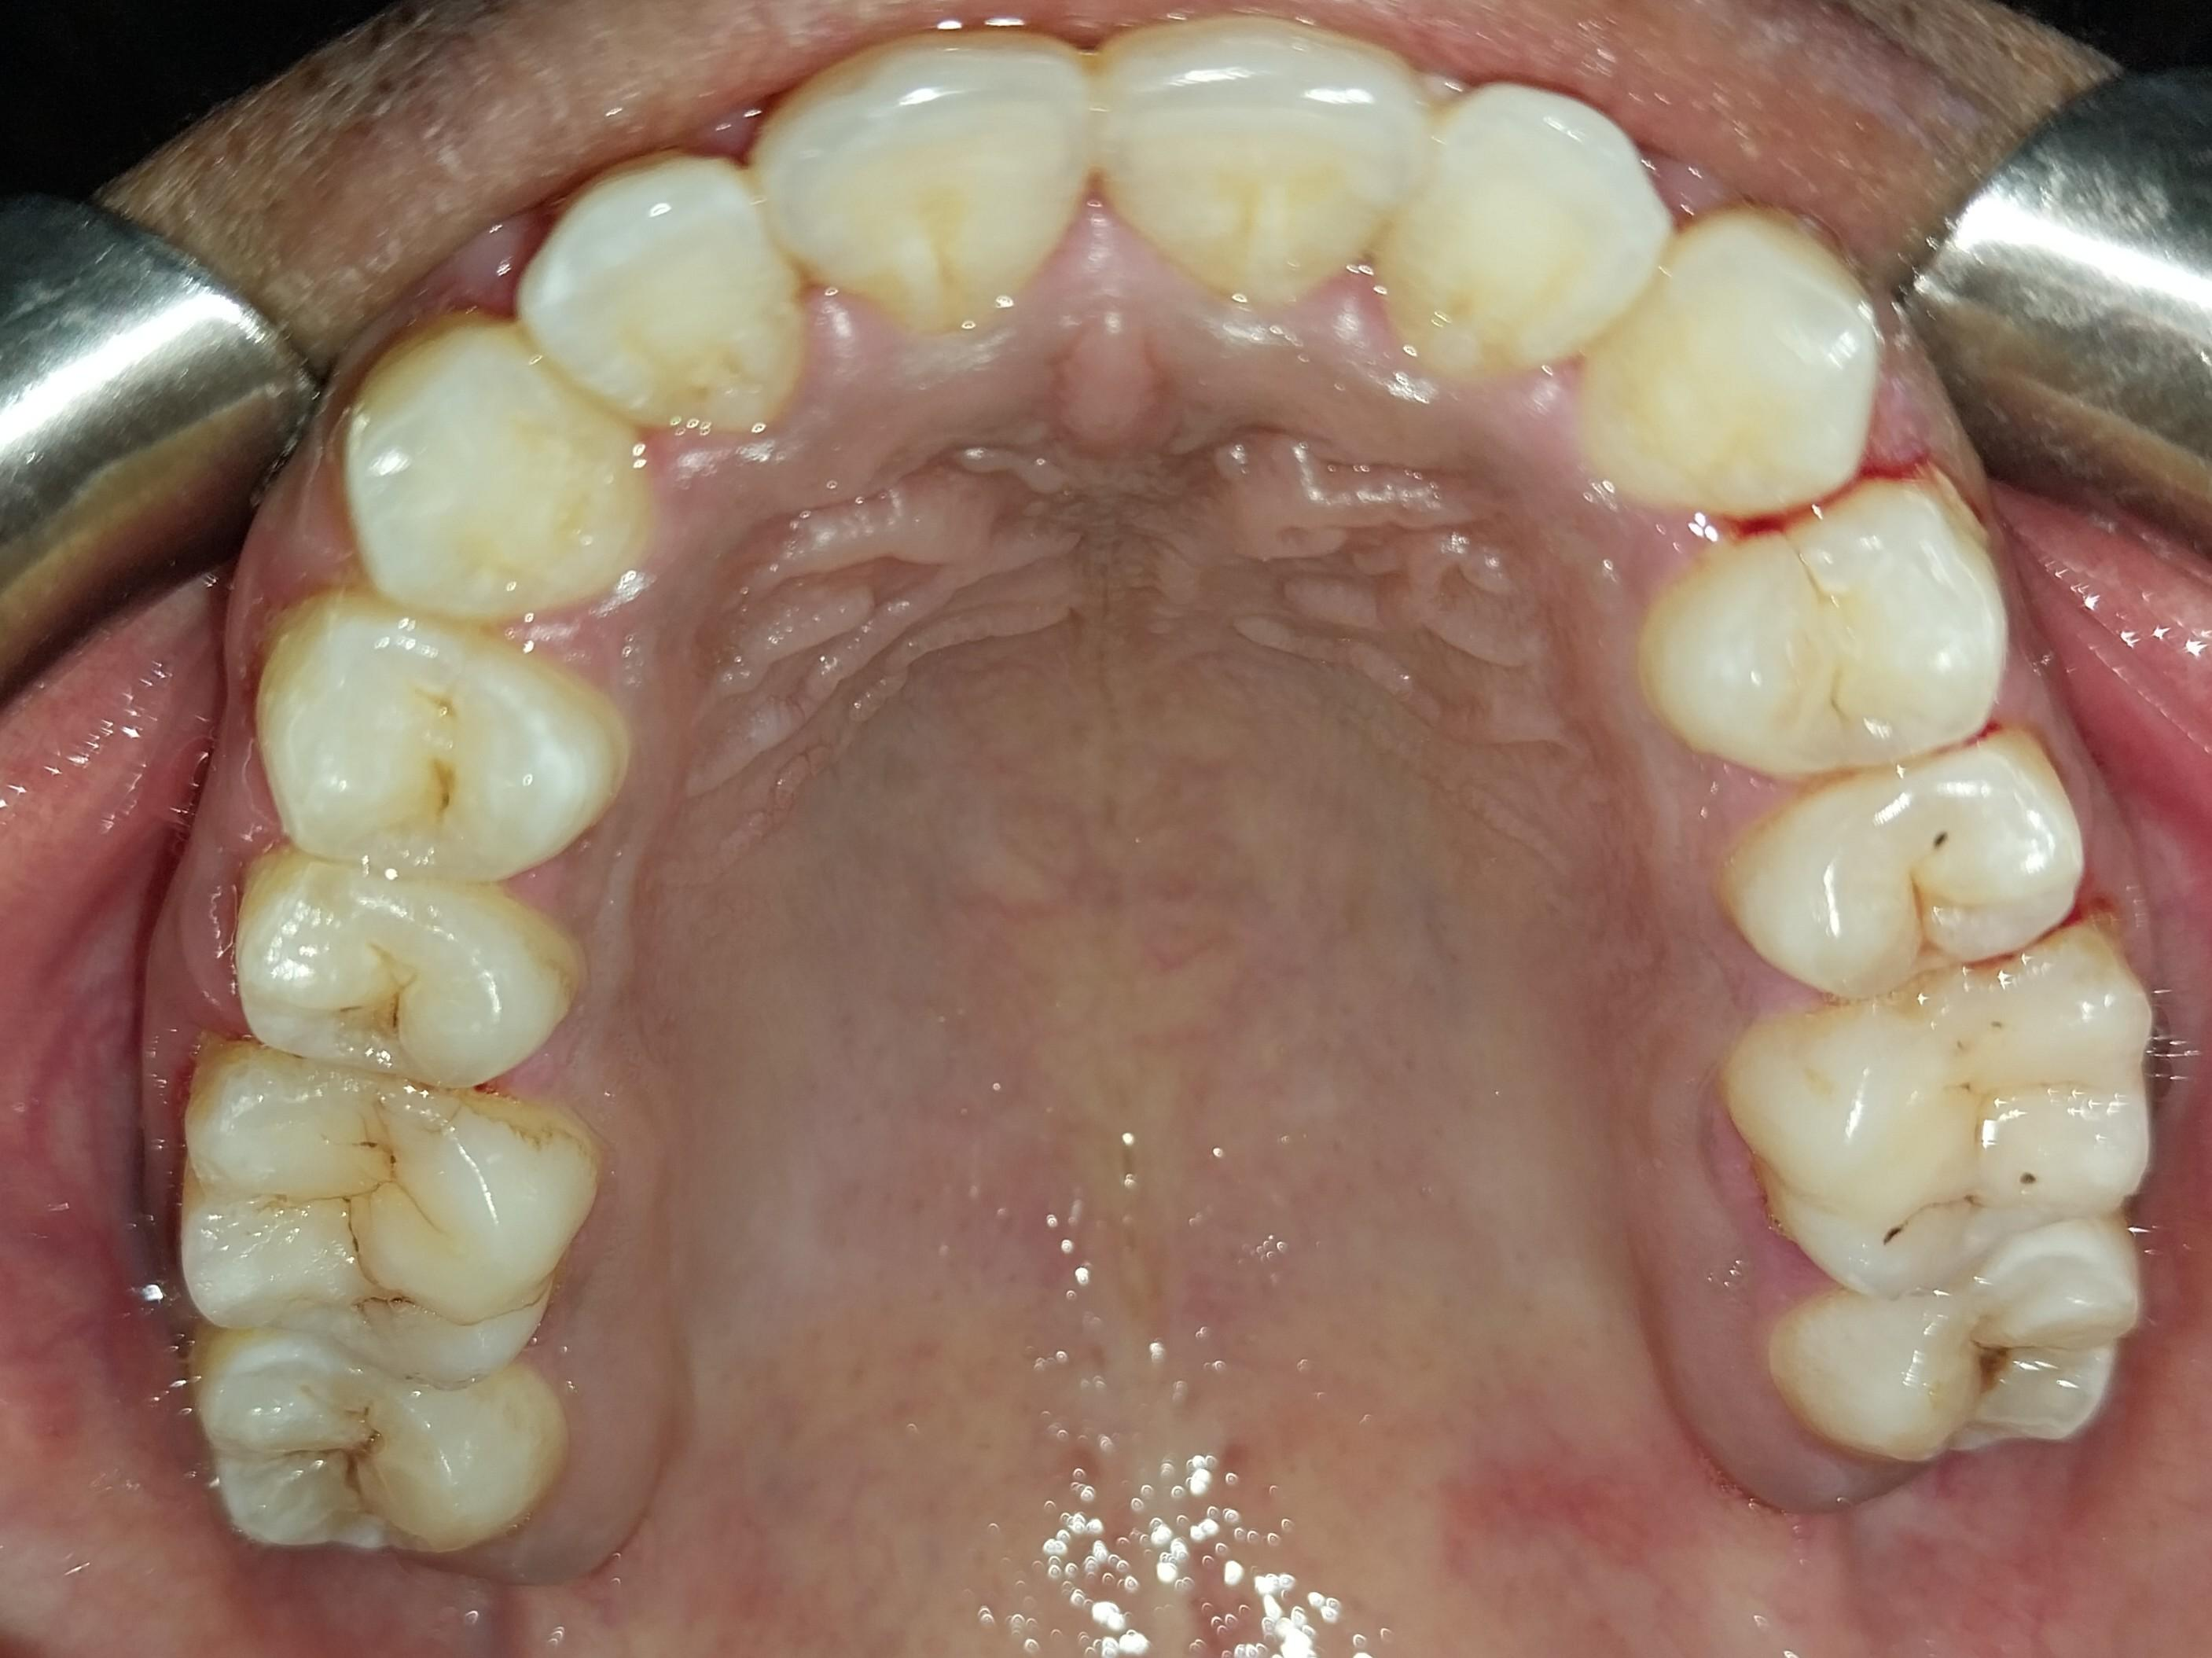D: (1723, 928, 2159, 1295), (178, 1049, 586, 1384), (1723, 733, 2080, 998), (1766, 1223, 2139, 1452), (226, 861, 580, 1091), (195, 1335, 563, 1555)
